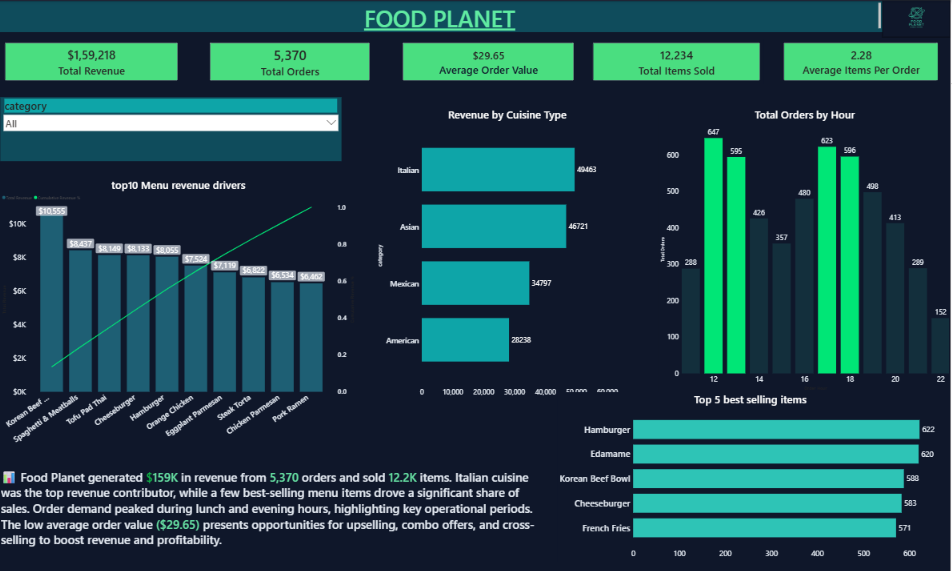

What the dashboard file says about the page in this screenshot:
{"tool":"powerbi","page":{"name":"Page 1","canvas":[3000,1800],"ordinal":0},"visuals":[{"type":"cardVisual","fields":{"Data":["_Measures.Total Revenue"]},"box":[0,116.6,580,154.4],"z":1000},{"type":"cardVisual","fields":{"Data":["_Measures.Total Items Sold"]},"box":[1853.3,116.6,561,154.4],"z":2000},{"type":"cardVisual","fields":{"Data":["_Measures.Average Order Value"]},"box":[1254.5,116.6,573.7,154.4],"z":3000},{"type":"cardVisual","fields":{"Data":["_Measures.Total Orders"]},"box":[646.1,116.6,539,154.4],"z":4000},{"type":"textbox","box":[0,3.2,2783.2,97.7],"z":5000},{"type":"clusteredBarChart","title":"Revenue by Cuisine Type","fields":{"Category":["restaurant menu_items.category"],"Y":["_Measures.Revenue by Cuisine"]},"box":[1185.1,337.3,832.1,923.5],"z":6000},{"type":"slicer","fields":{"Values":["restaurant menu_items.category"]},"box":[0,312,513.8,189.1],"z":8000},{"type":"slicer","fields":{"Values":["restaurant order_details_new.order_date"]},"box":[542.1,312,453.9,189.1],"z":9000},{"type":"clusteredBarChart","title":"Top 5 best selling items","fields":{"Category":["restaurant menu_items.item_name"],"Y":["CountNonNull(restaurant order_details_new.item_id)"]},"box":[1758.8,1235.6,1216.6,535.8],"z":10000},{"type":"clusteredColumnChart","title":"Total Orders by Hour","fields":{"Category":["restaurant order_details_new.Order Hour"],"Y":["_Measures.Total Orders"]},"box":[2077.1,337.3,923.5,898.3],"z":11000},{"type":"image","box":[2783.2,0,217.5,116.6],"z":12001},{"type":"lineStackedColumnComboChart","title":"top10 Menu revenue drivers","fields":{"Category":["restaurant menu_items.item_name"],"Y":["_Measures.Total Revenue"],"Y2":["_Measures.Cumulative Revenue %"]},"box":[3.2,557.9,1122.1,860.5],"z":12003},{"type":"cardVisual","fields":{"Data":["_Measures.Avg Items Per Order"]},"box":[2455.4,116.6,520.1,154.4],"z":12004},{"type":"textbox","box":[0,1472,1727.3,327.8],"z":12005}]}

Visuals, with their boxes in screenshot pixels (x1, y1, x2, y2), scaled from the page's 3000x1800 canvas onto the 952x571 screenshot:
cardVisual - _Measures.Total Revenue: BBox(0, 37, 184, 86)
cardVisual - _Measures.Total Items Sold: BBox(588, 37, 766, 86)
cardVisual - _Measures.Average Order Value: BBox(398, 37, 580, 86)
cardVisual - _Measures.Total Orders: BBox(205, 37, 376, 86)
textbox: BBox(0, 1, 883, 32)
"Revenue by Cuisine Type" clusteredBarChart: BBox(376, 107, 640, 400)
slicer - restaurant menu_items.category: BBox(0, 99, 163, 159)
slicer - restaurant order_details_new.order_date: BBox(172, 99, 316, 159)
"Top 5 best selling items" clusteredBarChart: BBox(558, 392, 944, 562)
"Total Orders by Hour" clusteredColumnChart: BBox(659, 107, 951, 392)
image: BBox(883, 0, 951, 37)
"top10 Menu revenue drivers" lineStackedColumnComboChart: BBox(1, 177, 357, 450)
cardVisual - _Measures.Avg Items Per Order: BBox(779, 37, 944, 86)
textbox: BBox(0, 467, 548, 570)
